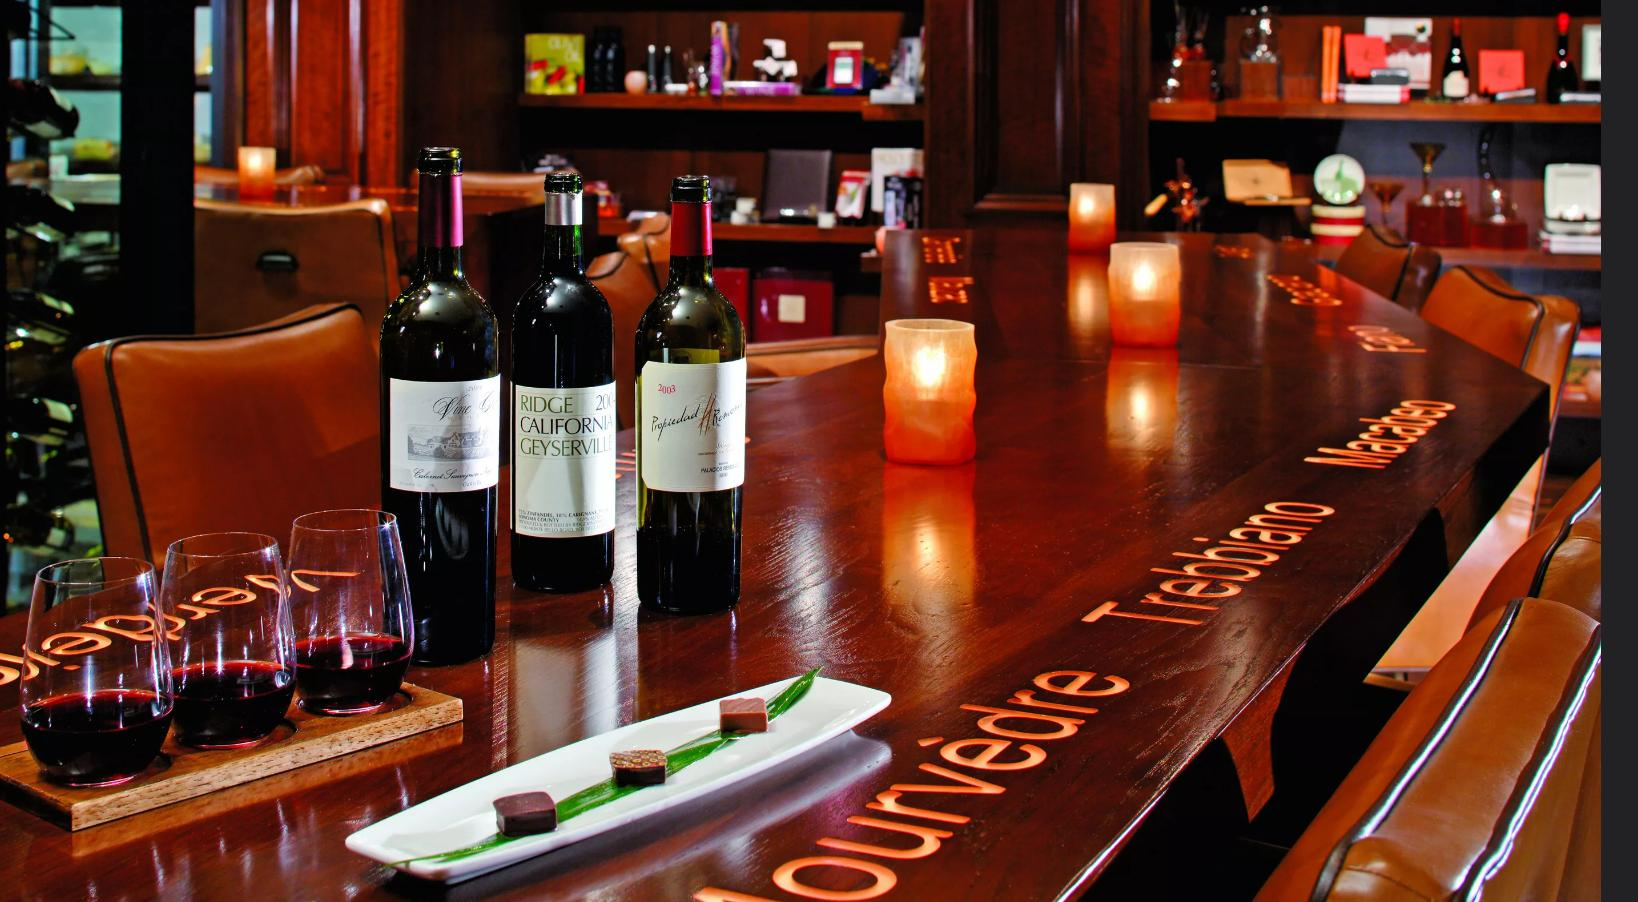wine bottle: (382, 146, 500, 667), (635, 177, 746, 615), (510, 173, 614, 594)
wine label: (515, 382, 616, 538), (641, 358, 747, 493), (390, 375, 500, 492)
